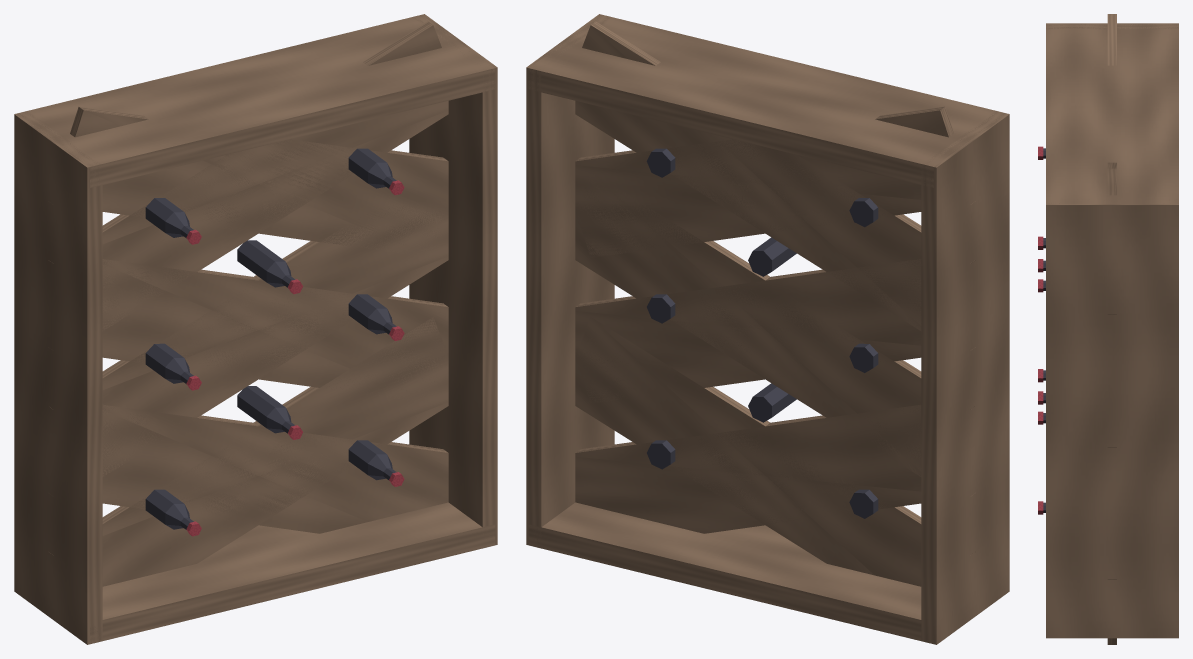
3 views of the same model, side by side, from view 1: azimuth 30°, elevation 25°; view 2: azimuth 150°, elevation 25°; view 3: azimuth 270°, elevation 25° (orthographic). The views are drawn at different scales.
Parts seen in each view (by area): view 1: wine-rack; view 2: wine-rack; view 3: wine-rack.
Boxes of the visible parts, bbox=[...] form: wine-rack: bbox=[14, 14, 497, 644]; wine-rack: bbox=[526, 14, 1009, 644]; wine-rack: bbox=[1038, 14, 1178, 644].
Size of the model in its own units: 1.62 by 1.98 by 0.53.
3 materials, 2 textured.
